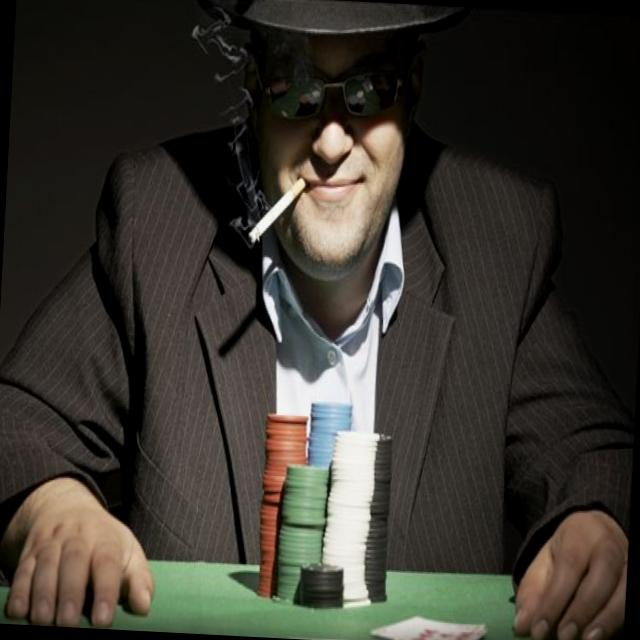smoke: (246, 169, 308, 249)
